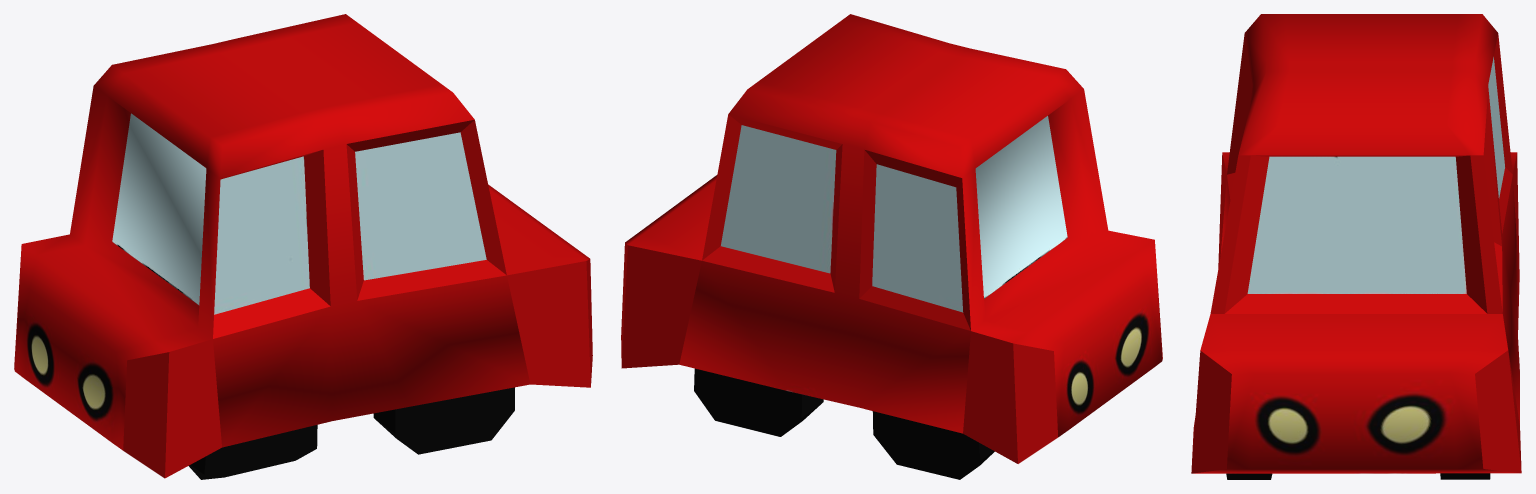
The model's file is SM_Car.fbx.
3 renders of one model, left to right at view 1: azimuth 30°, elevation 25°; view 2: azimuth 150°, elevation 25°; view 3: azimuth 270°, elevation 25°, orthographic. The views are drawn at different scales.
Parts seen in each view (by area): view 1: SM_Car; view 2: SM_Car; view 3: SM_Car.
Boxes of the visible parts, x1,y1,x2,y2 form: SM_Car: (14, 14, 592, 479); SM_Car: (621, 14, 1162, 479); SM_Car: (1191, 14, 1521, 479).
Bounding box in the file's own units: 77.08 × 55.83 × 48.68.
